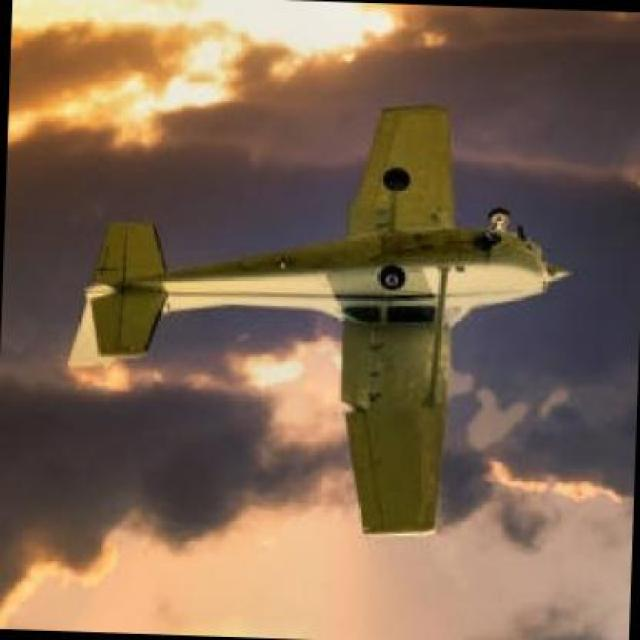iha: (91, 103, 561, 536)
